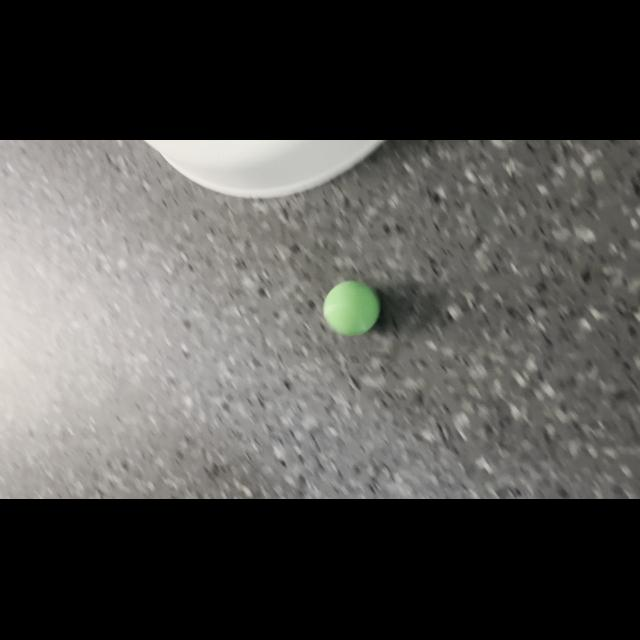objects: (318, 272, 387, 341)
